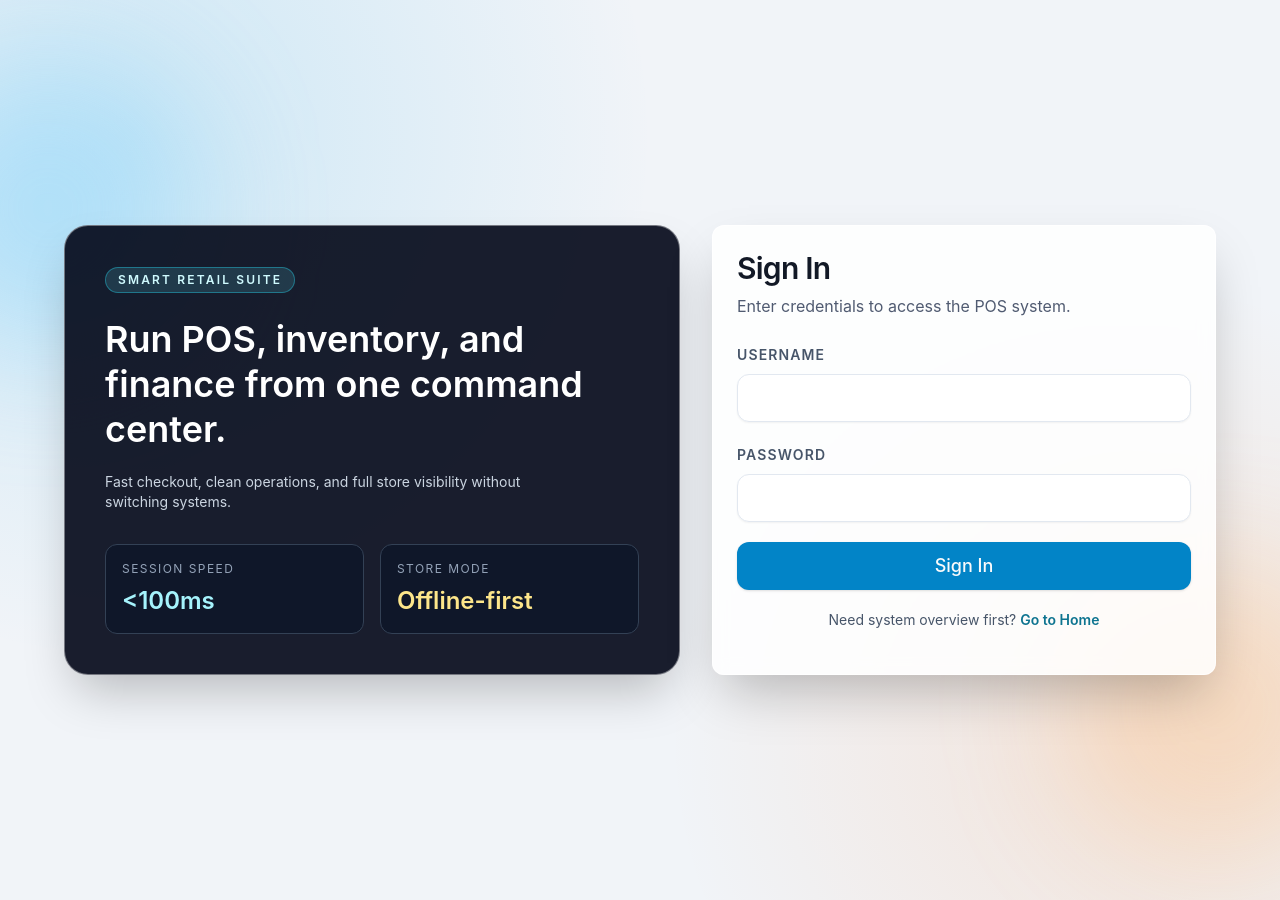
app flows › forces first-run users through the setup wizard
Type "admin" into the field labelled "Username" at (964,398), box x1=737 y1=374 x2=1191 y2=422
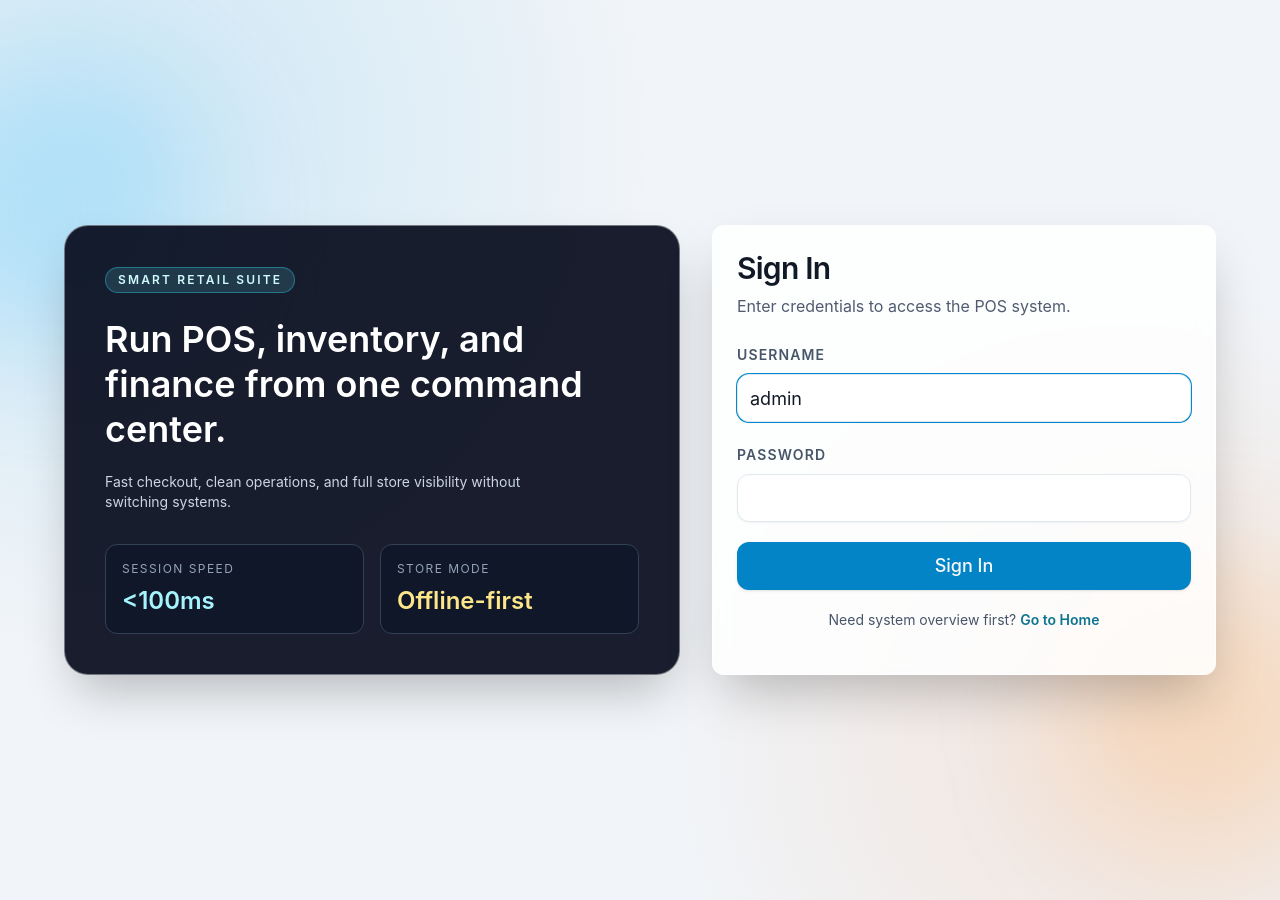
Type "admin123" into the password field labelled "Password" at (964,498), box x1=737 y1=474 x2=1191 y2=522
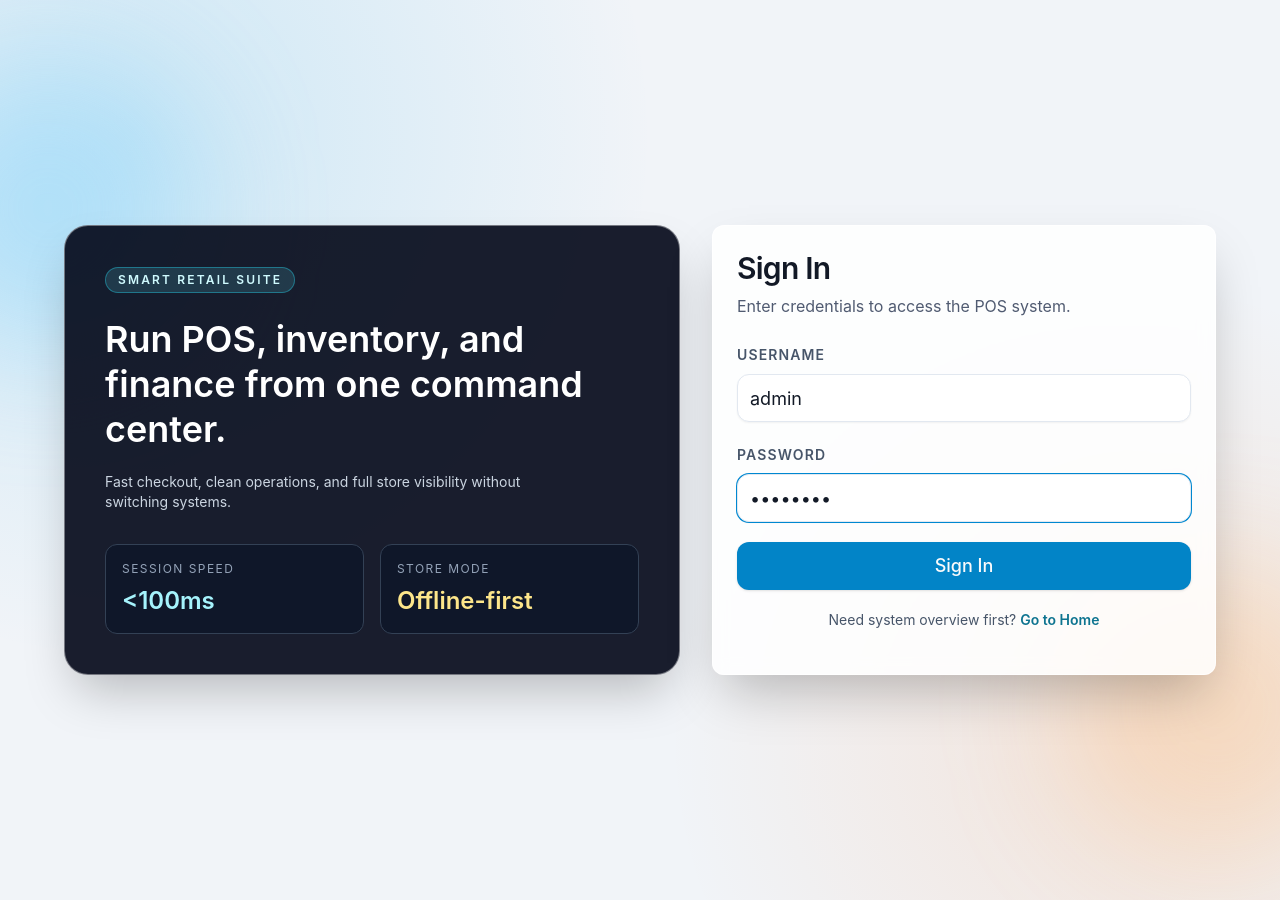
Click the button "Sign In" at (964,566), box x1=737 y1=542 x2=1191 y2=590
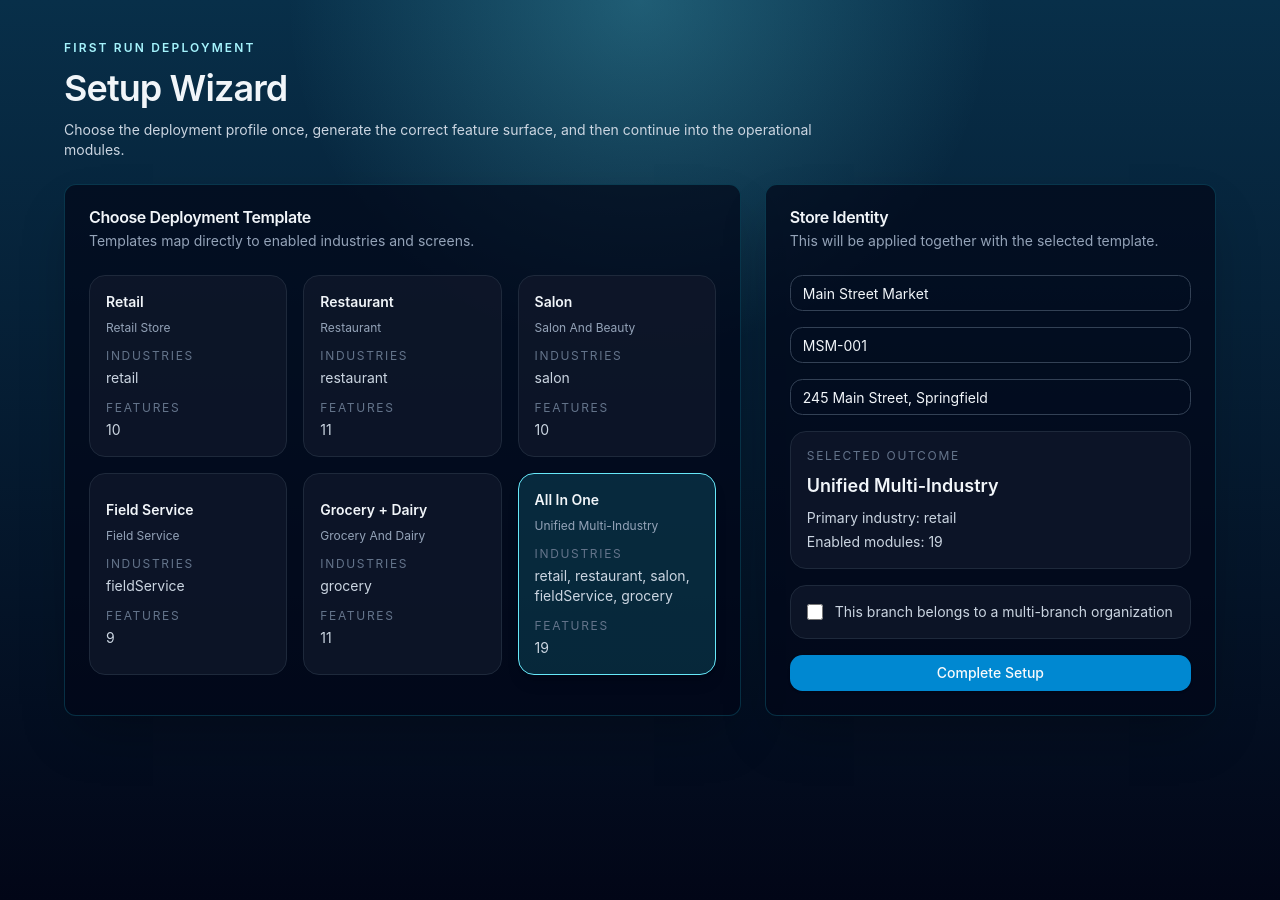
Expected: the heading "Setup Wizard" is shown, x1=64 y1=66 x2=287 y2=110
Click the button "Restaurant Restaurant Industries restaurant Features 11" at (402,366), box x1=303 y1=275 x2=502 y2=457
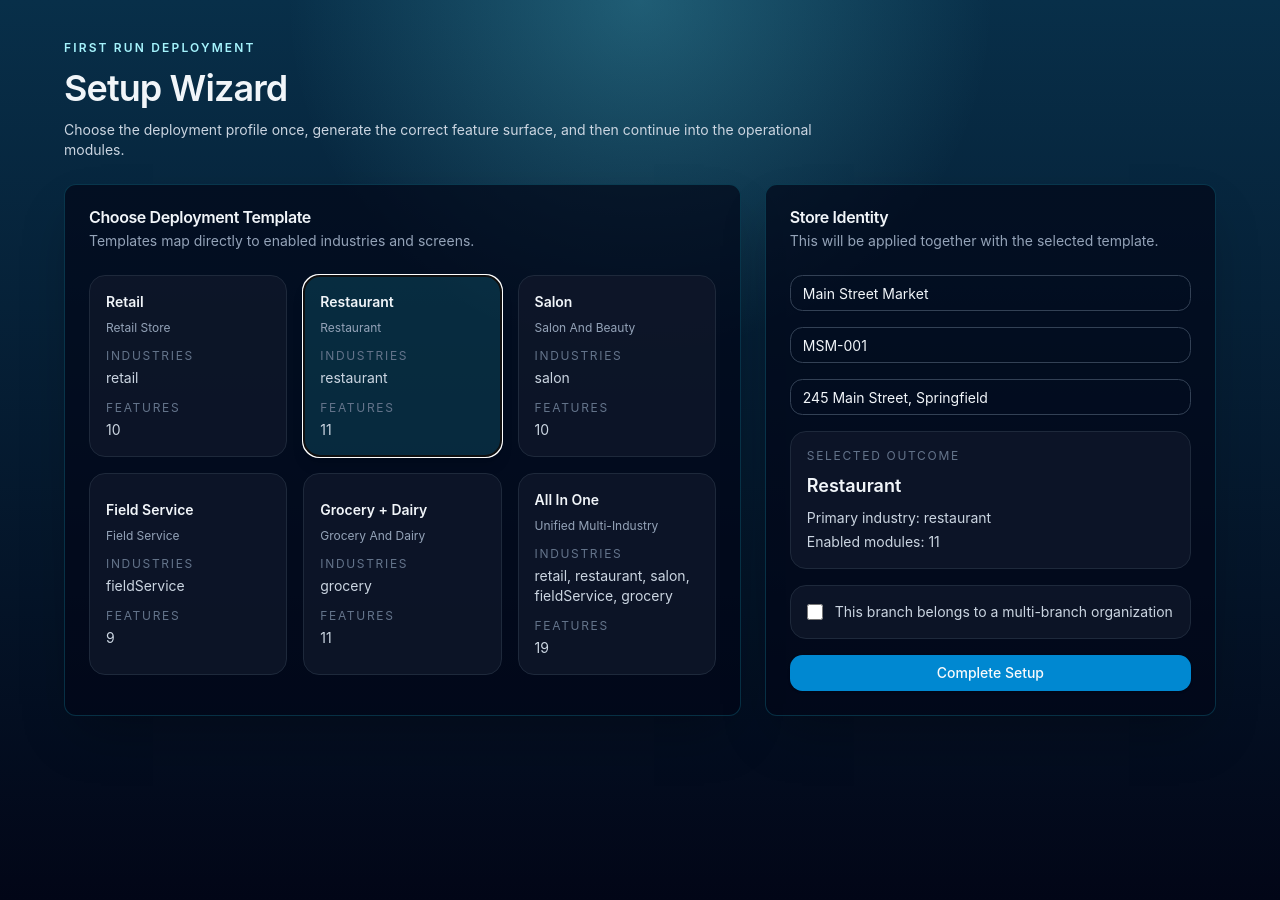
Replace the text in the field named "Setup Store Name" with "Pilot Restaurant" at (990,293), box x1=790 y1=275 x2=1191 y2=311
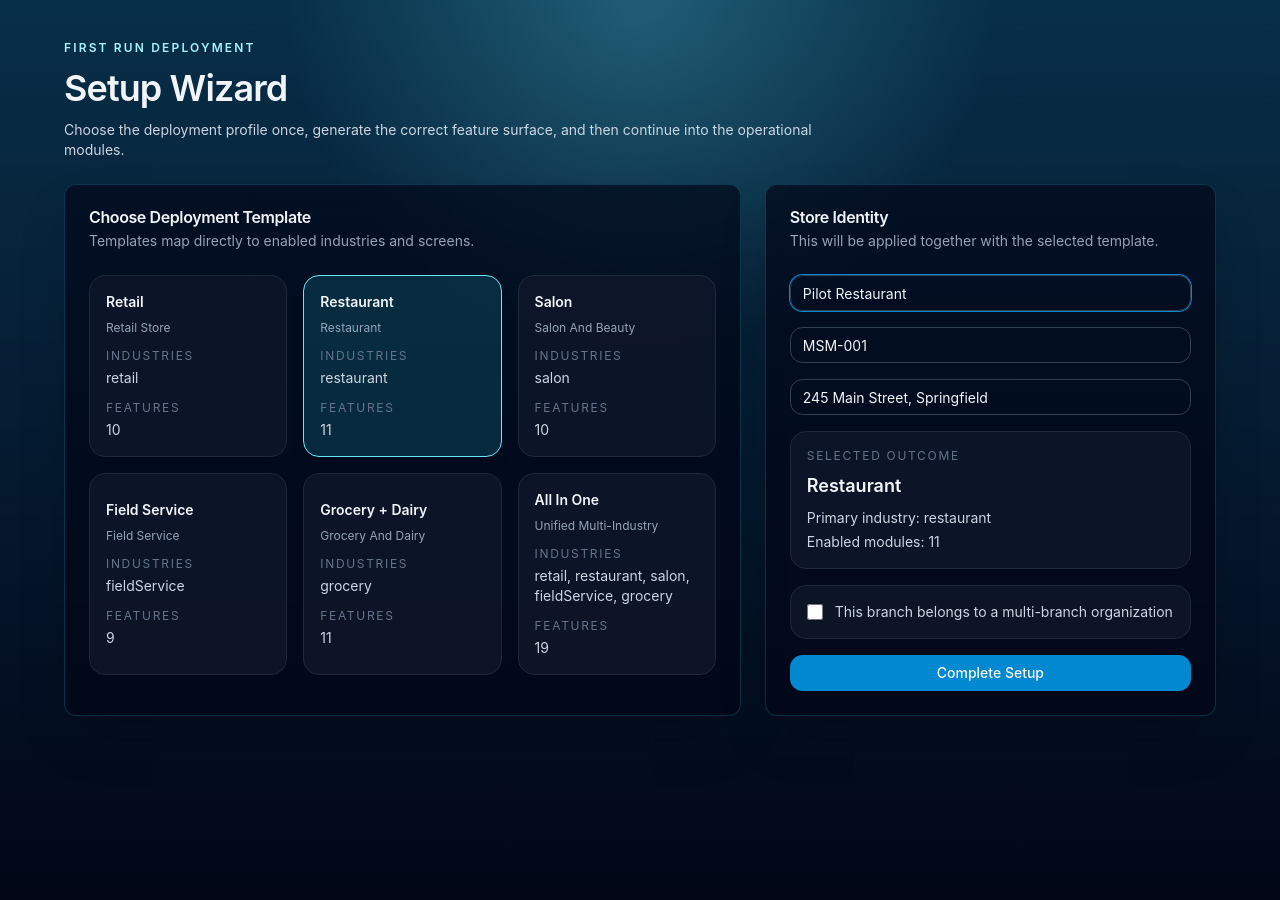
Click the button "Complete Setup" at (990,673), box x1=790 y1=655 x2=1191 y2=691
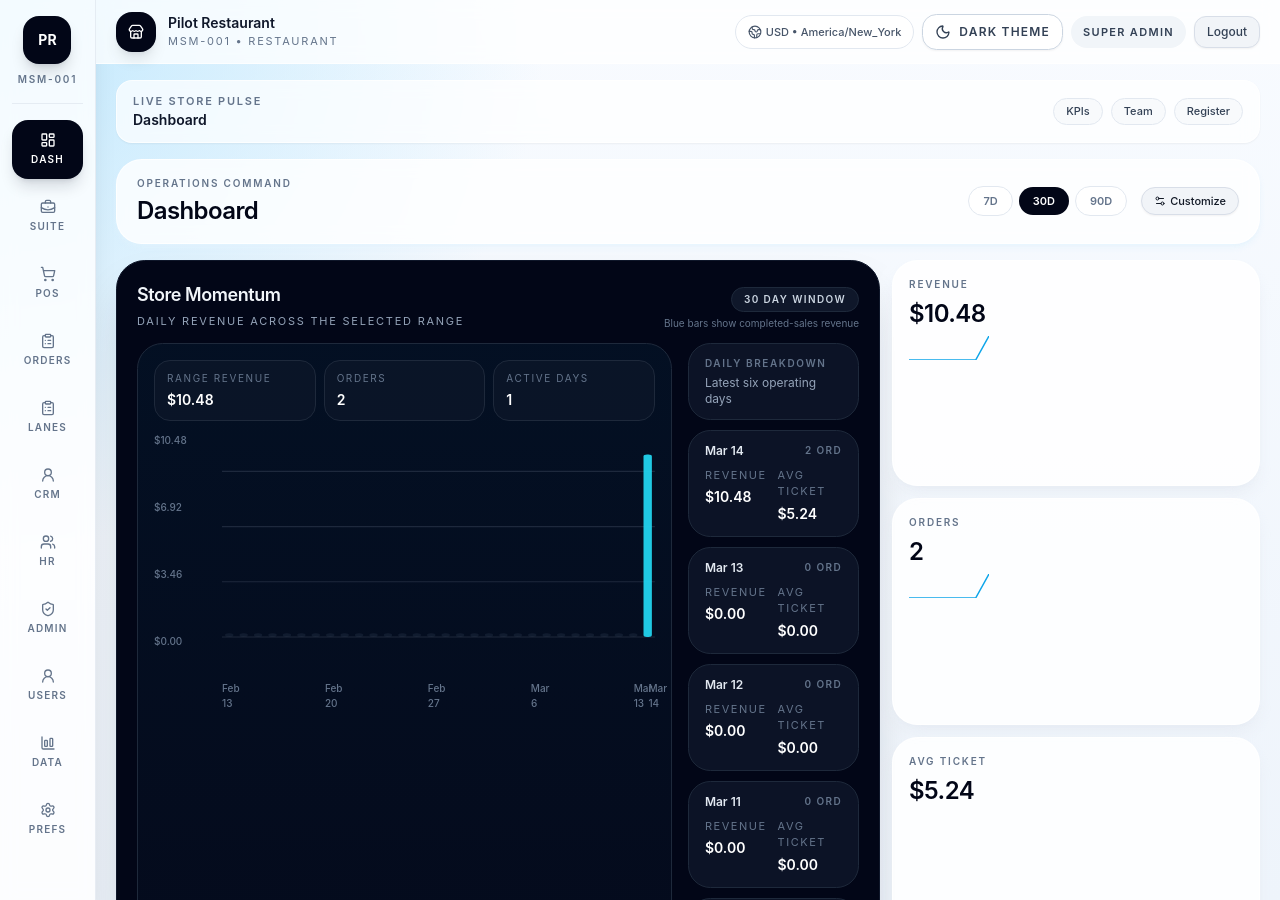
Expected: the heading "Dashboard" is shown, x1=137 y1=196 x2=258 y2=224
